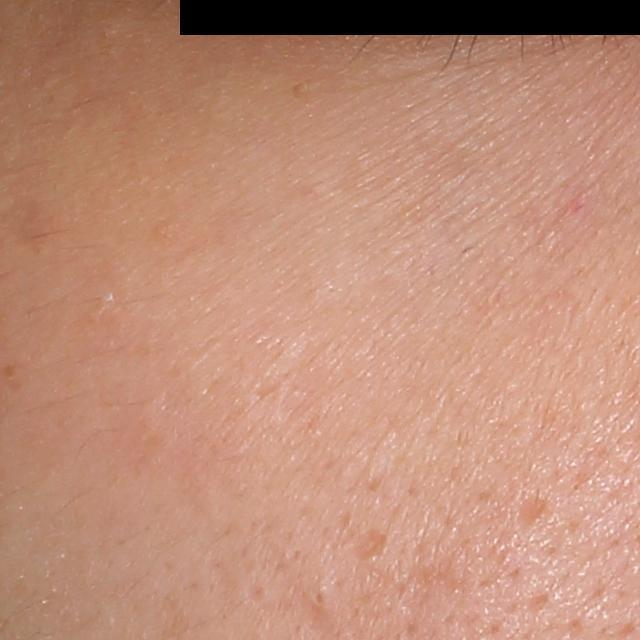atrophic_scar: (510, 492, 549, 532), (349, 528, 388, 559)
comedo: (304, 584, 335, 615)
